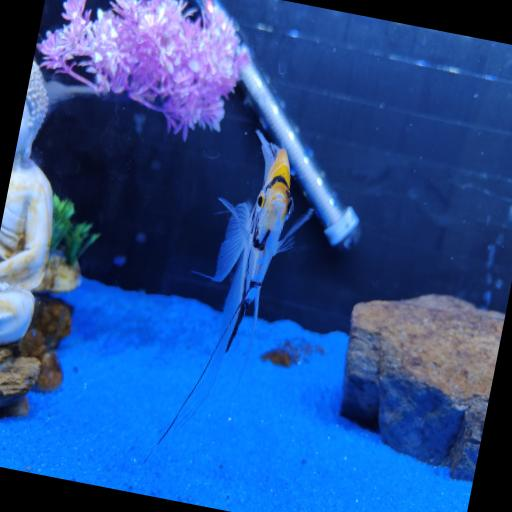Fish: (156, 130, 312, 444)
